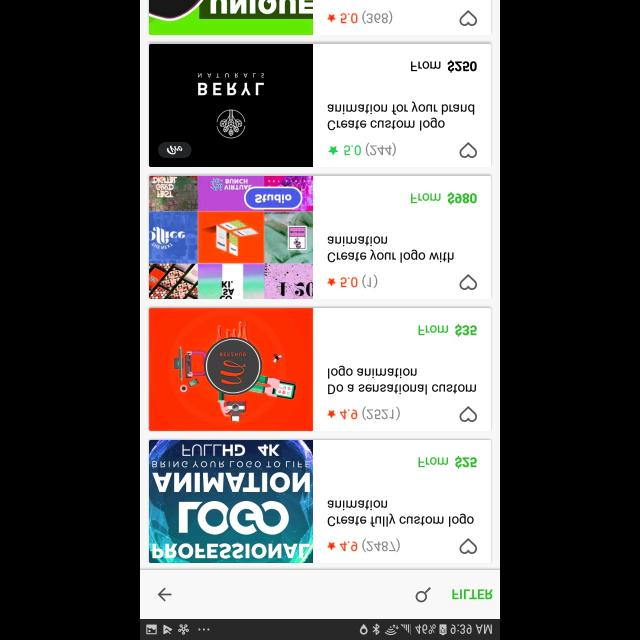icon: (459, 538, 477, 554), (459, 406, 477, 422), (459, 274, 477, 290), (459, 142, 477, 158), (459, 10, 477, 26), (416, 586, 432, 602), (158, 587, 172, 601), (328, 145, 339, 155), (328, 409, 337, 418), (328, 542, 337, 550), (328, 278, 337, 286), (328, 14, 337, 22)
image: (149, 175, 313, 298), (149, 44, 313, 166), (149, 308, 313, 430), (149, 440, 313, 562), (150, 1, 314, 36)
text: (328, 365, 476, 395), (328, 101, 474, 131), (326, 499, 474, 526), (326, 235, 454, 262), (410, 59, 478, 73), (340, 538, 400, 552), (340, 406, 400, 420), (344, 142, 396, 158), (340, 10, 392, 26), (411, 192, 477, 204), (418, 456, 478, 468), (418, 325, 478, 337), (340, 274, 378, 290), (452, 589, 492, 599)
uppertaskbar: (140, 618, 500, 640)
